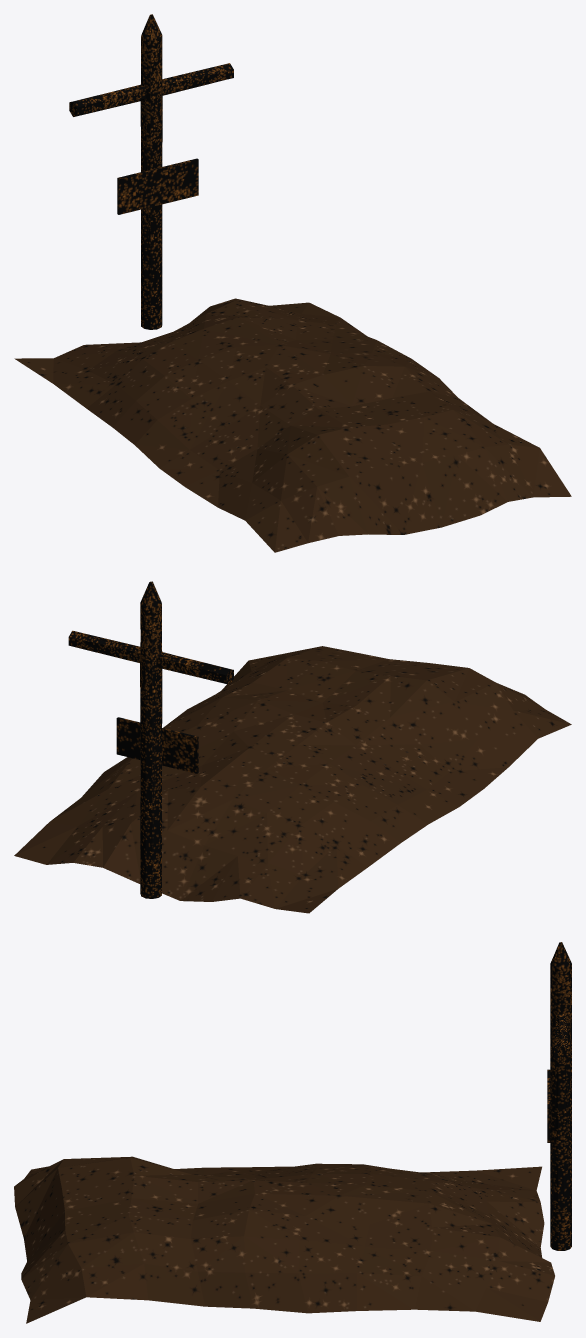
Rendered from Model_Grob_1.fbx.
3 renders of one model, top to bottom at view 1: azimuth 30°, elevation 25°; view 2: azimuth 150°, elevation 25°; view 3: azimuth 270°, elevation 25°, orthographic. The views are drawn at different scales.
Parts seen in each view (by area): view 1: Mesh_Grob_1; view 2: Mesh_Grob_1; view 3: Mesh_Grob_1.
Part boxes in pixels (box(x1,y1,x2,y2)): Mesh_Grob_1: box(14, 14, 571, 552); Mesh_Grob_1: box(14, 581, 571, 913); Mesh_Grob_1: box(14, 942, 571, 1323).
Size of the model in its own units: 220 by 137 by 134.
